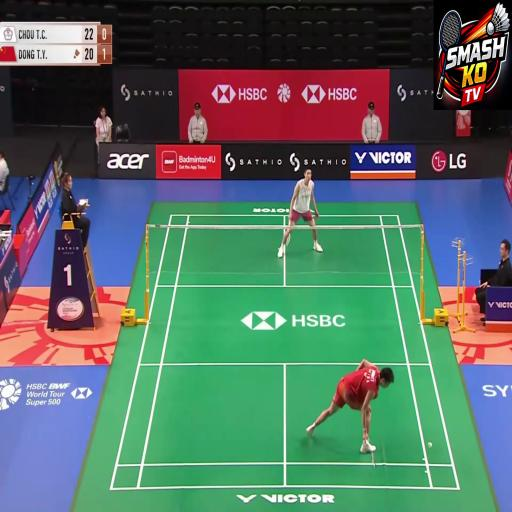player: (315, 304, 385, 468), (276, 135, 334, 275)
